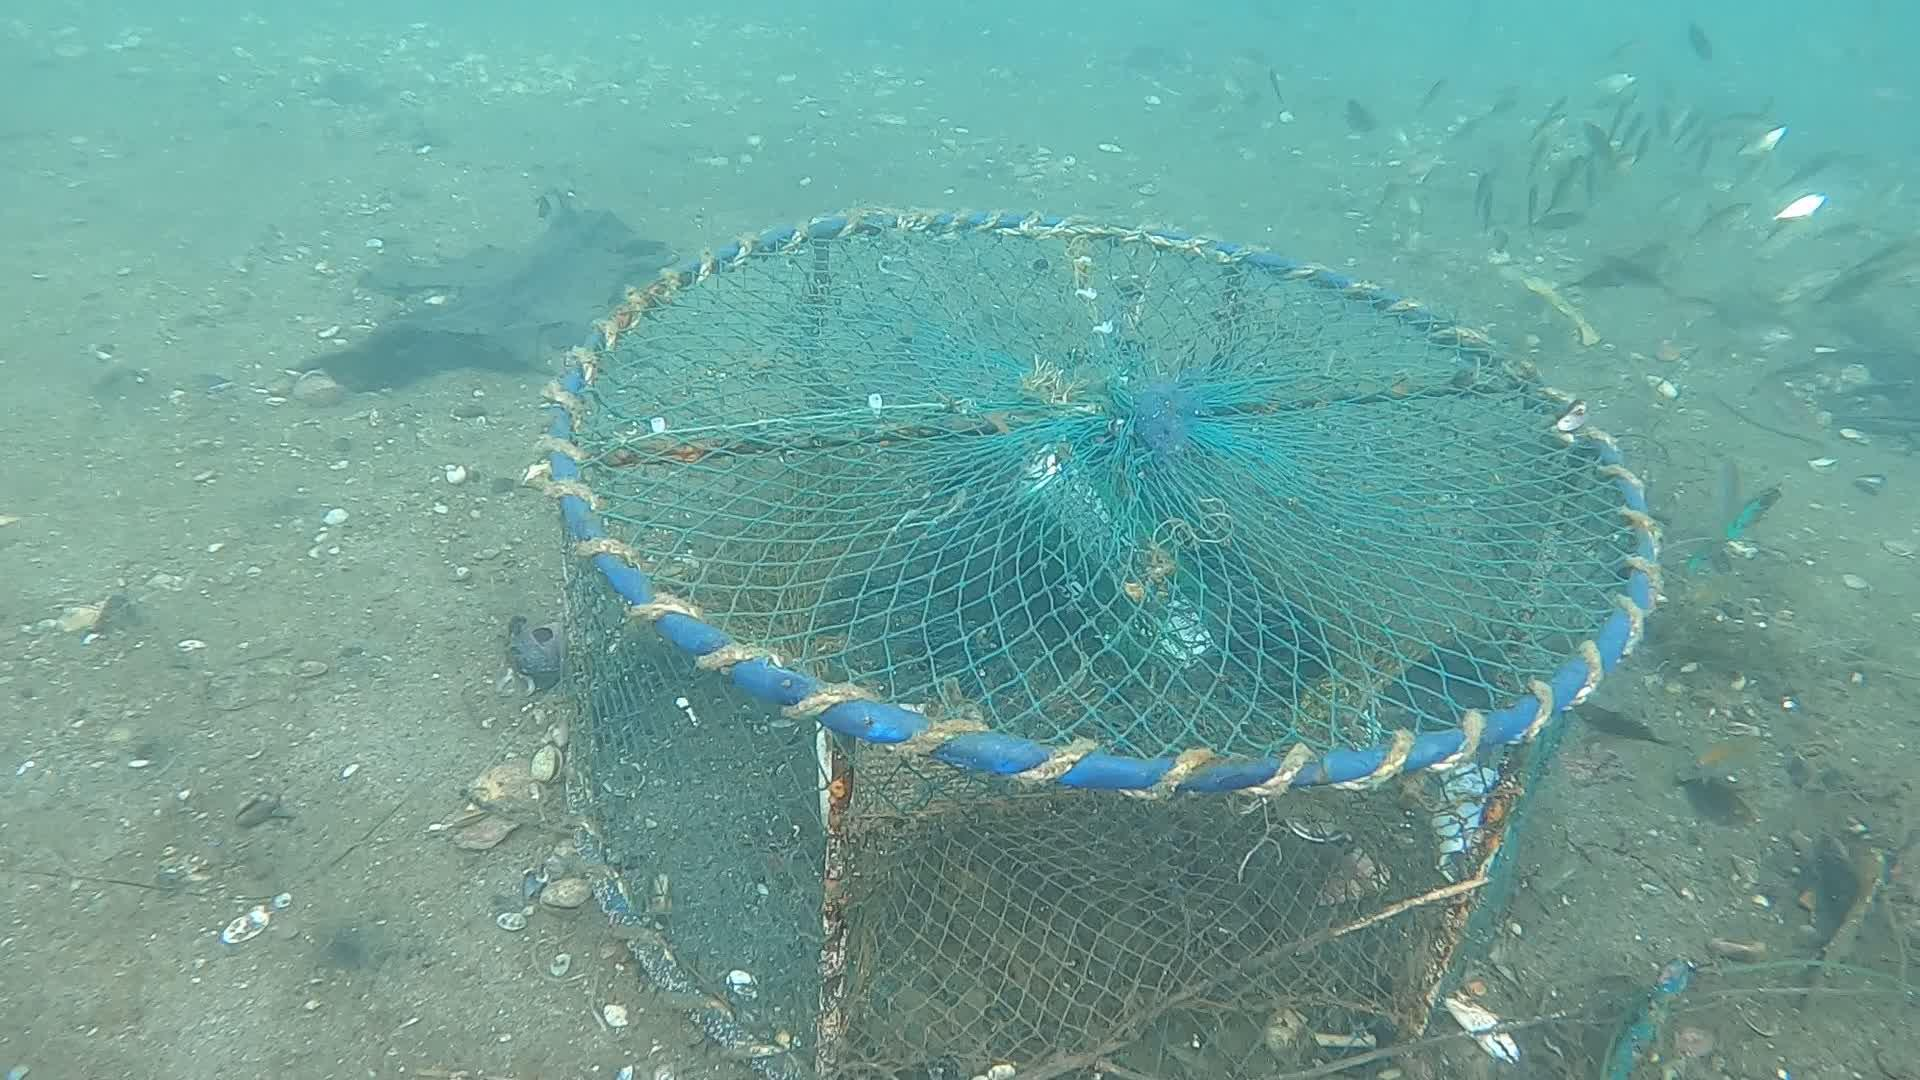circular fish trap: (531, 196, 1669, 1080)
